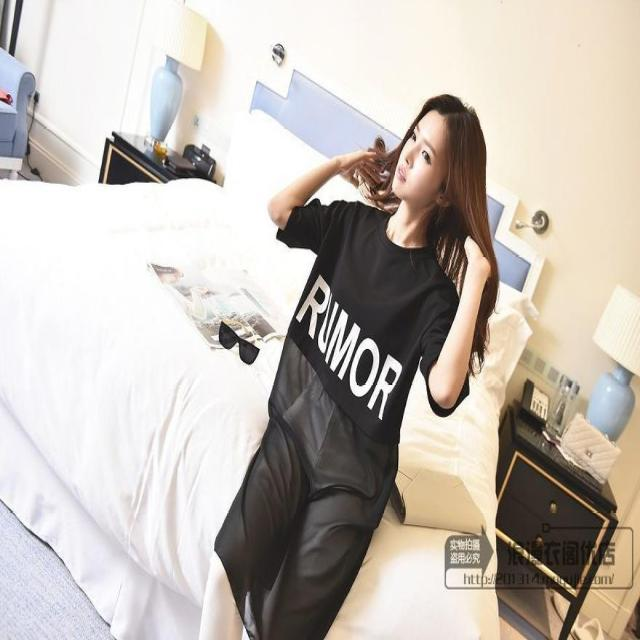short-sleeve-top: (269, 175, 481, 482)
